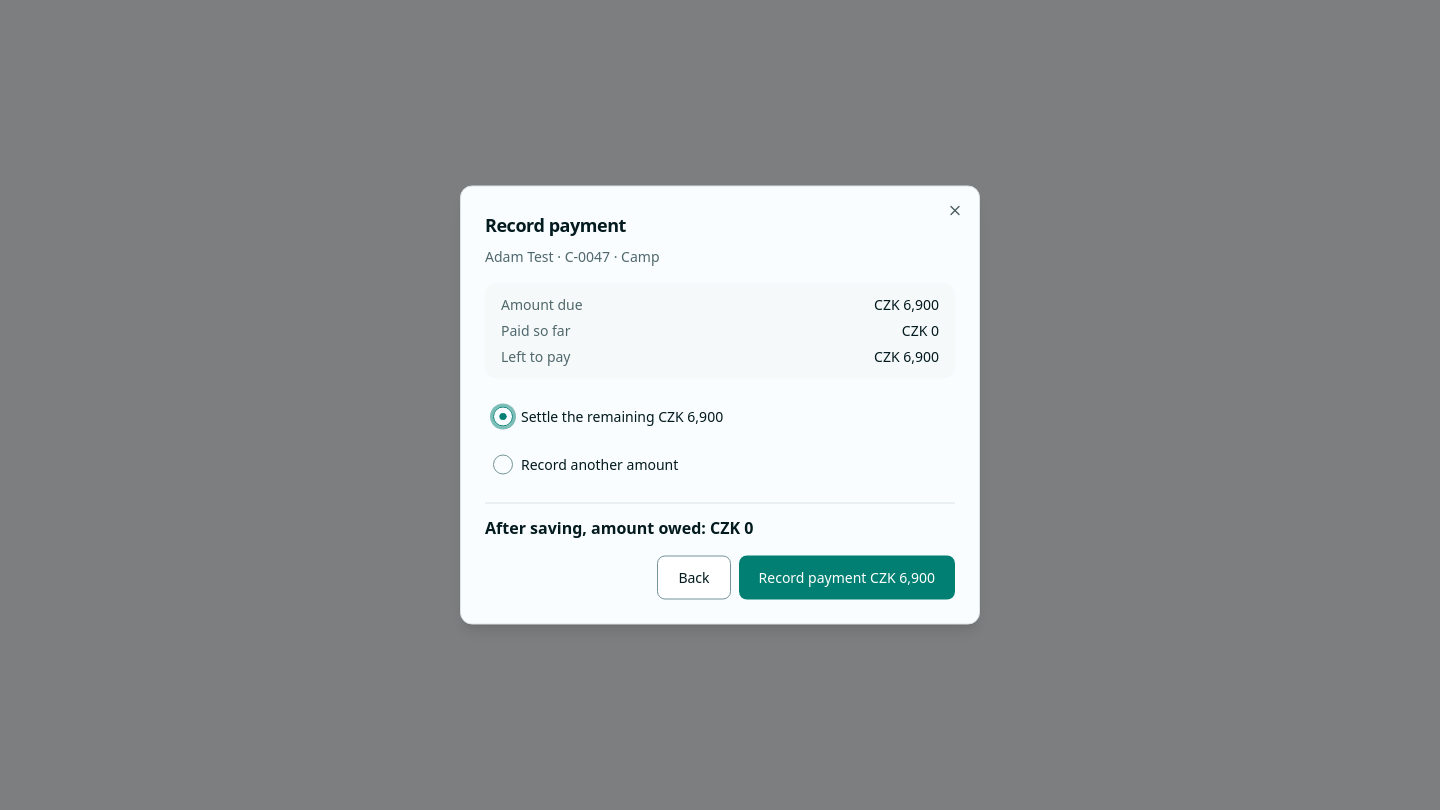
it: PaymentEditor › rejects 0 without recording a receipt
Click the radio button named "Record another amount" next to "Record another amount" at {"x": 503, "y": 464}, box x1=493 y1=454 x2=513 y2=474
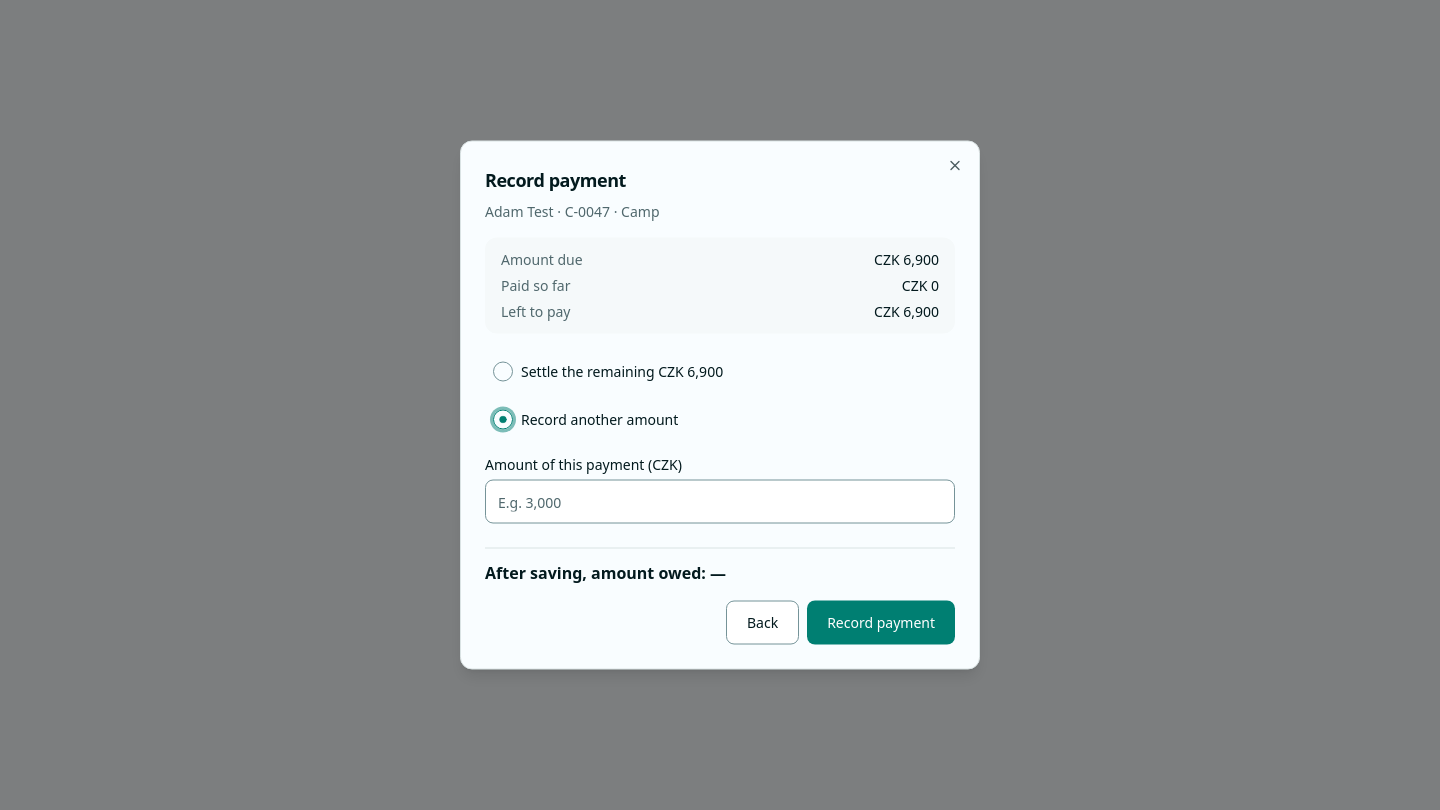
Type "0" into the field labelled "Amount of this payment (CZK)" at {"x": 720, "y": 502}, box x1=485 y1=480 x2=955 y2=524
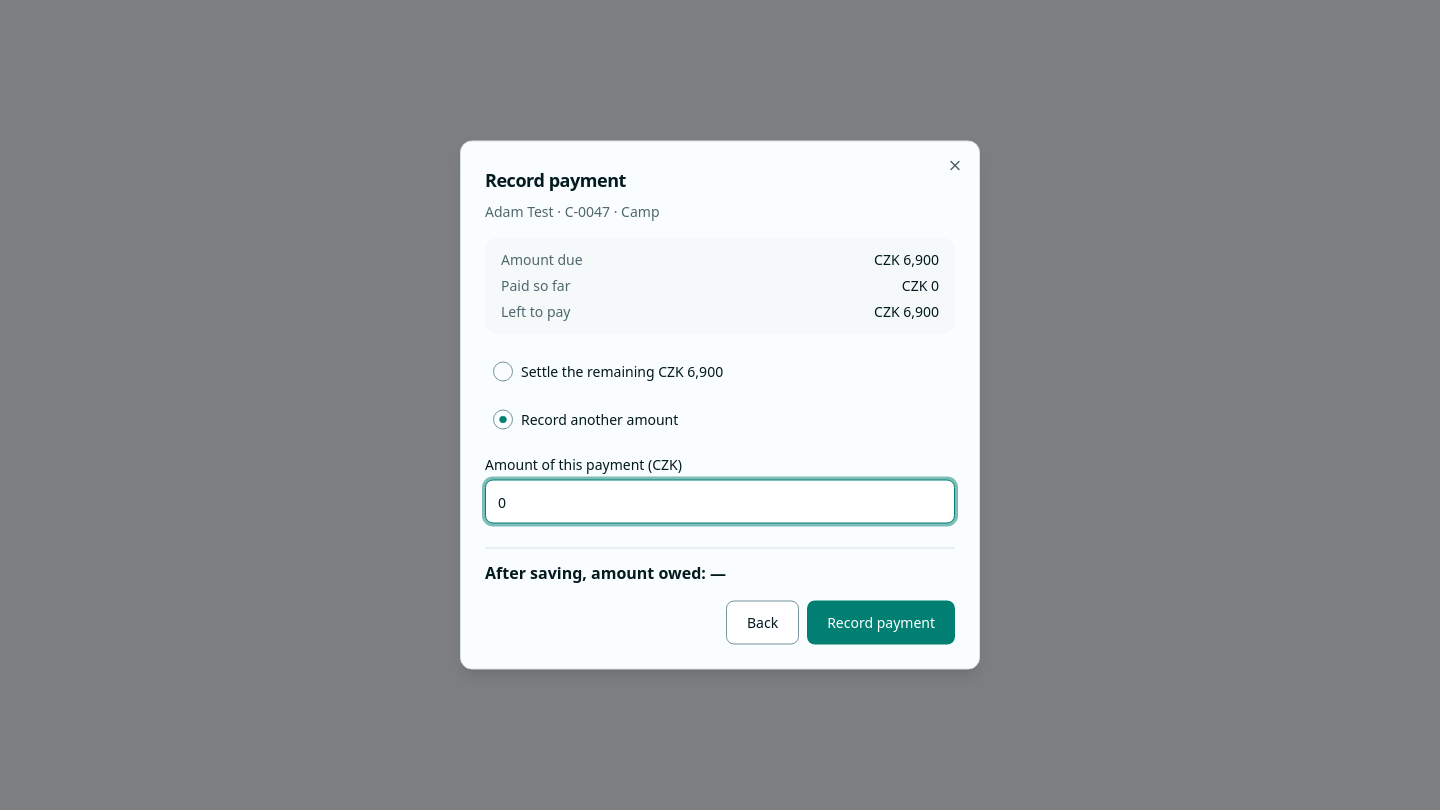
Click the button "Record payment" at {"x": 881, "y": 622}, box x1=807 y1=600 x2=955 y2=644
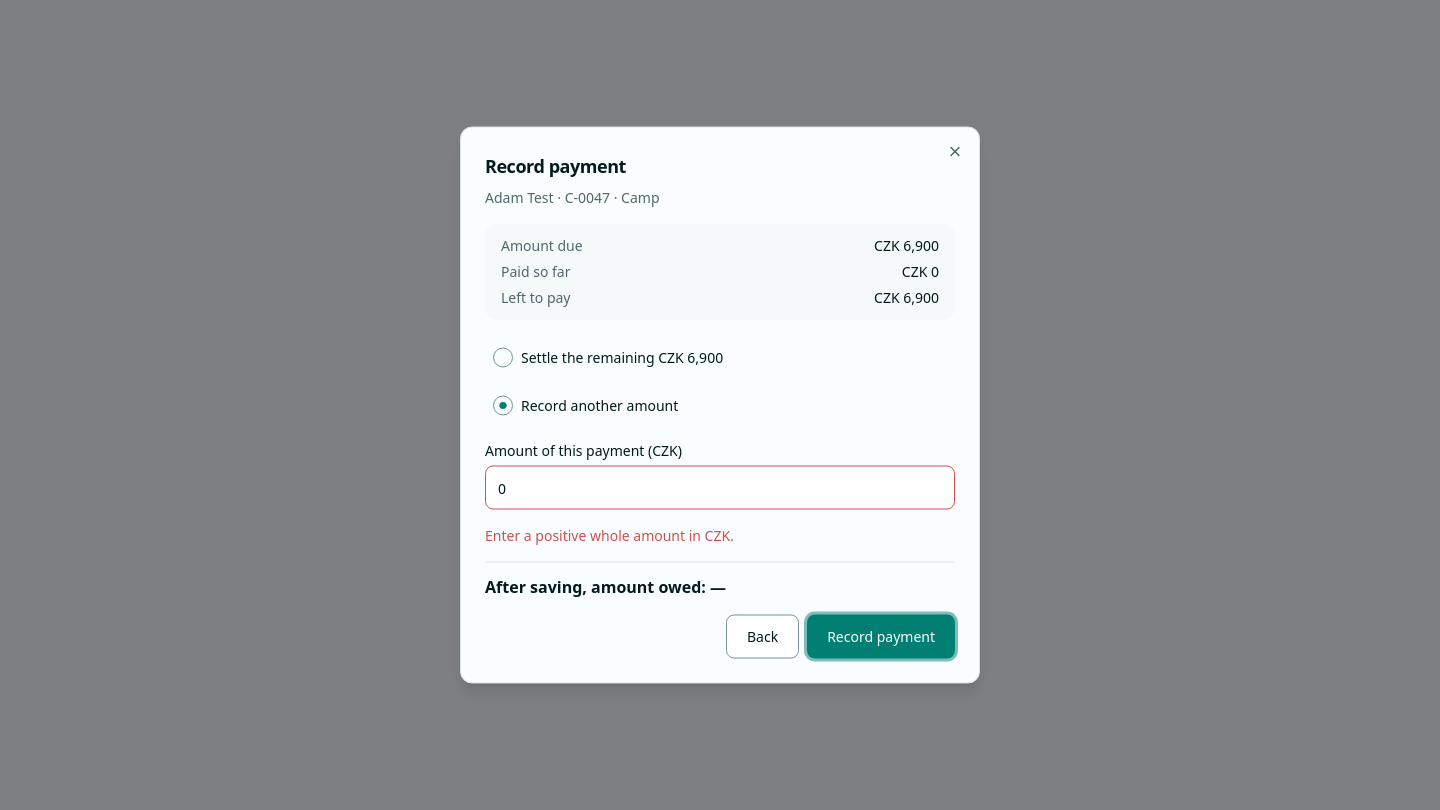
Check: the text "After saving, amount owed: —" is shown, box x1=485 y1=562 x2=955 y2=598
Check: the message reads "Enter a positive whole amount in CZK.", box x1=485 y1=526 x2=734 y2=544
